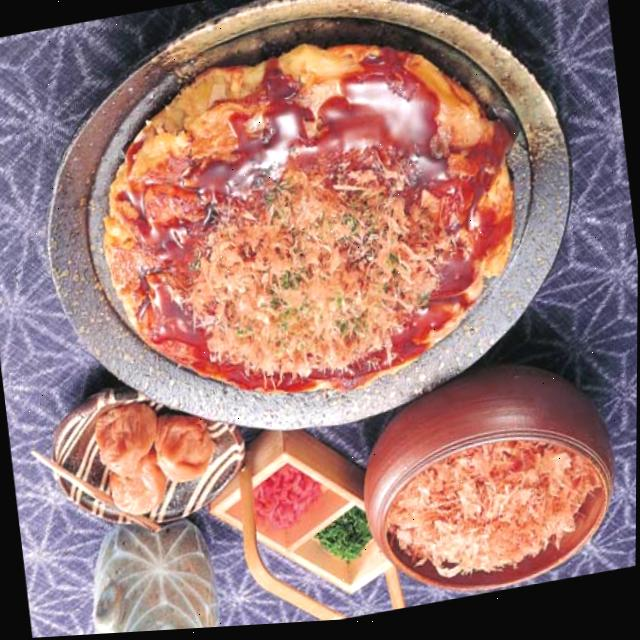蛋糕甜品: (90, 27, 528, 421)
